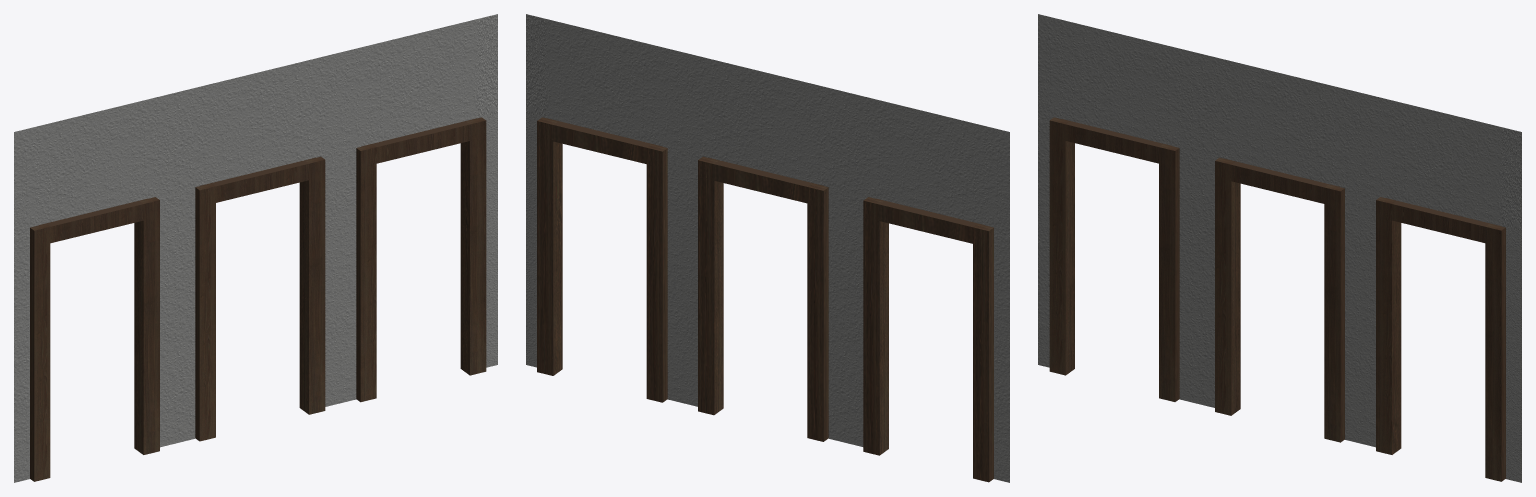
The model's file is door.fbx.
The picture shows the model from 3 angles, left to right: view 1: azimuth 30°, elevation 25°; view 2: azimuth 150°, elevation 25°; view 3: azimuth 330°, elevation 25°; orthographic projection.
Parts seen in each view (by area): view 1: door, doorframe; view 2: door, doorframe; view 3: door, doorframe.
Boxes of the visible parts, box(x1,y1,x2,y2) form: door: box(14, 14, 497, 482); doorframe: box(30, 117, 486, 481); door: box(526, 14, 1009, 482); doorframe: box(537, 117, 993, 482); door: box(1038, 14, 1521, 482); doorframe: box(1049, 117, 1505, 481).
Bounding box in the file's own units: 1924 × 1333 × 64.36.
